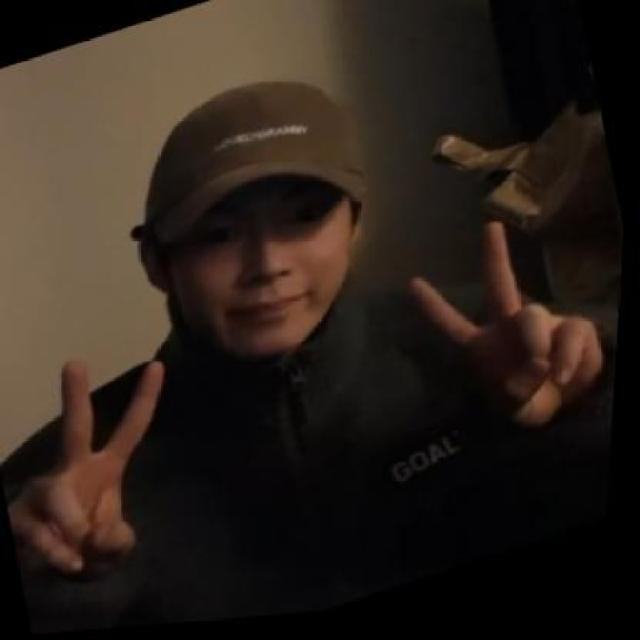hat: (110, 52, 385, 285)
